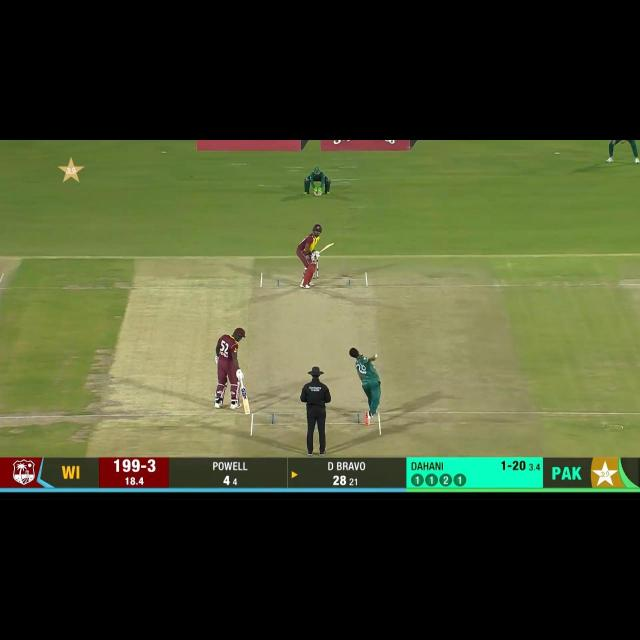bat: (239, 386, 251, 414), (319, 242, 335, 253)
toe: (243, 406, 250, 414), (328, 242, 335, 247)
